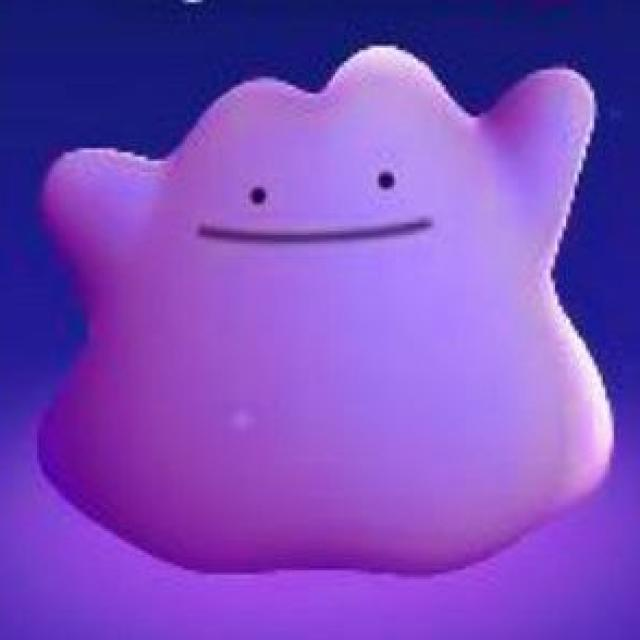Ditto: (28, 37, 605, 577)
